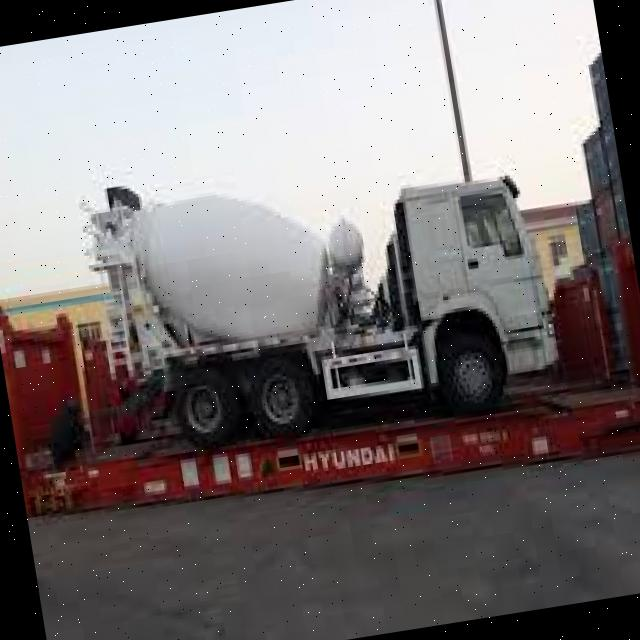Mixer Truck: (72, 114, 570, 478)
